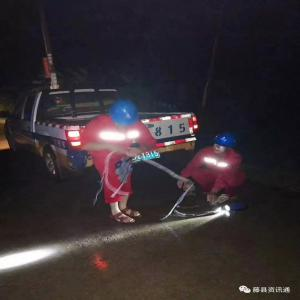blue: (108, 102, 140, 129), (211, 132, 238, 155)
